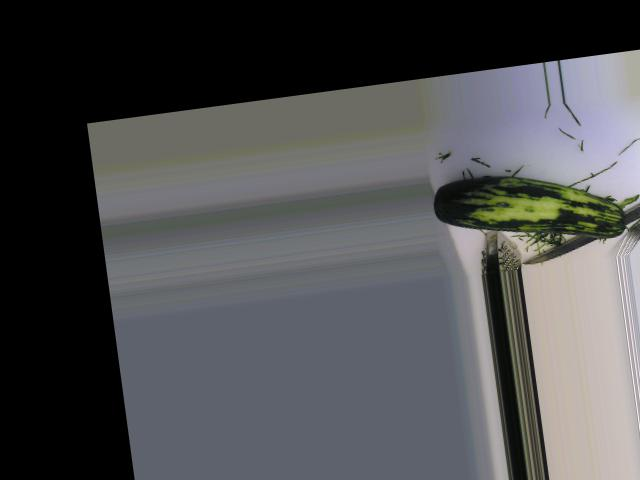cucumber: (431, 158, 629, 260)
